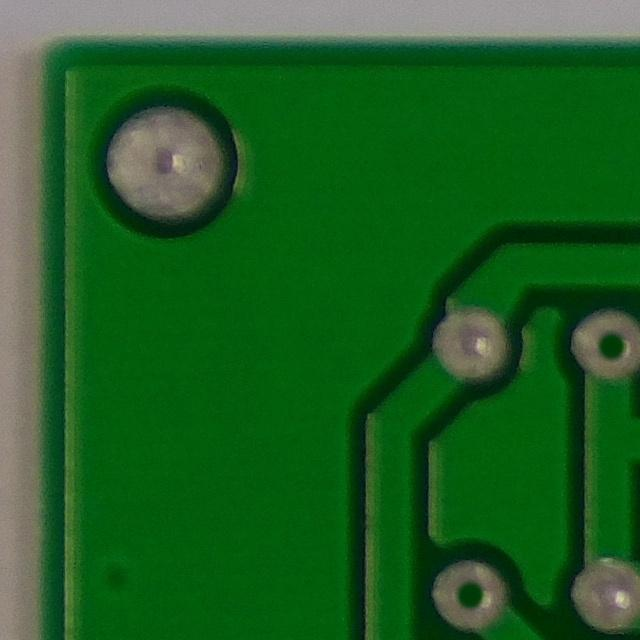missing_hole: (432, 551, 511, 639), (565, 299, 640, 390)
